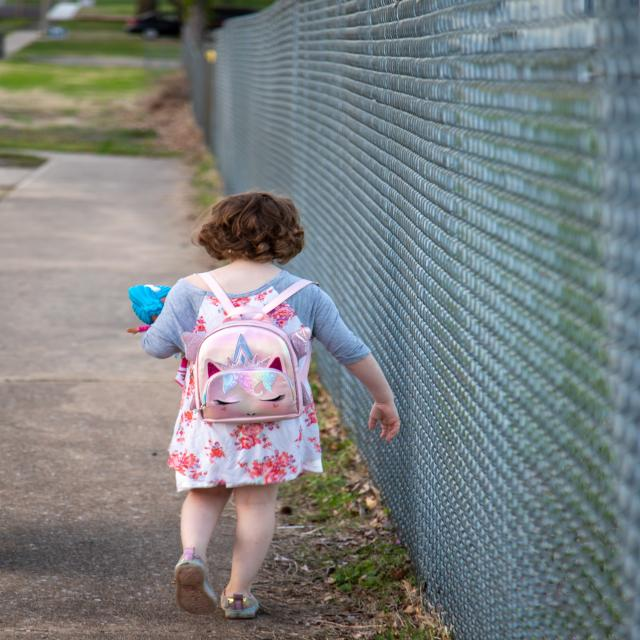backpack: (171, 272, 319, 432)
